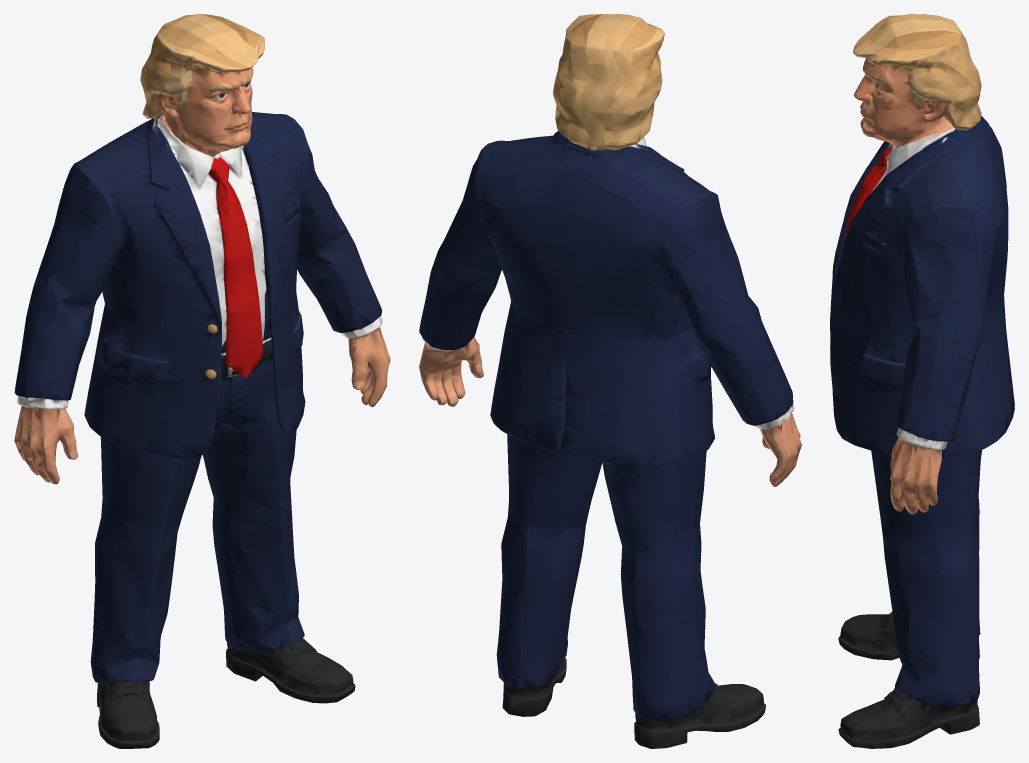
The model's file is trump-meshy-v1.glb.
The picture shows the model from 3 angles, left to right: view 1: azimuth 30°, elevation 25°; view 2: azimuth 150°, elevation 25°; view 3: azimuth 270°, elevation 25°; orthographic projection. The views are drawn at different scales.
Bounding box in the file's own units: 1.08 × 1.9 × 0.4753.
1 material, 1 textured.
